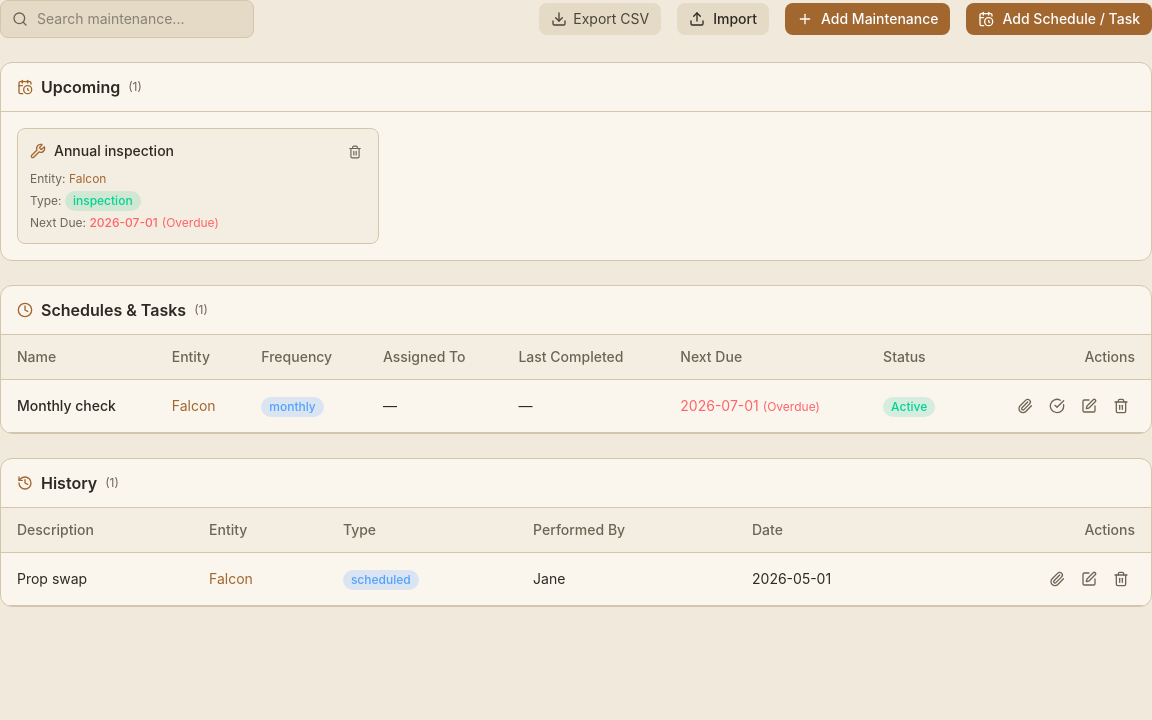
Scenario: MaintenancePage › opens the record form as a named dialog that closes on Escape
The width and height of the screenshot is (1152, 720).
Expected: the text "Prop swap" is shown, [1,552,193,606]
Click the button "Add Maintenance" at [868, 19], box [785,3,950,35]
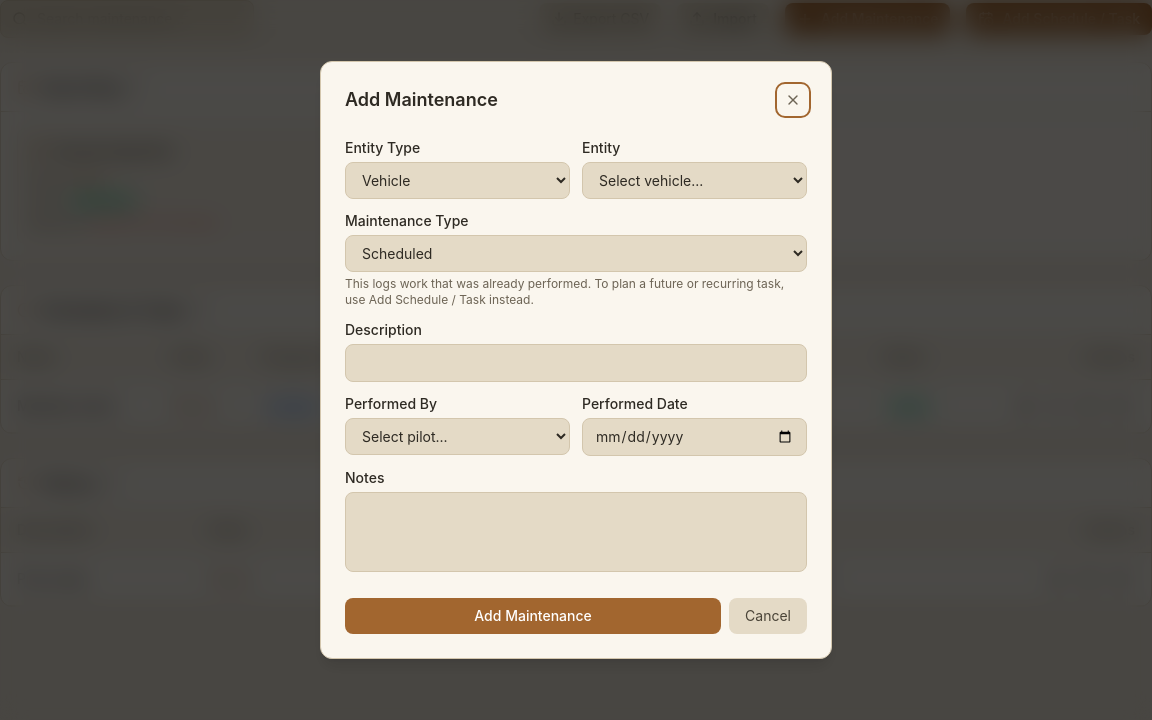
Now the dialog "Add Maintenance" is shown, box [320,61,832,659]
Press Escape
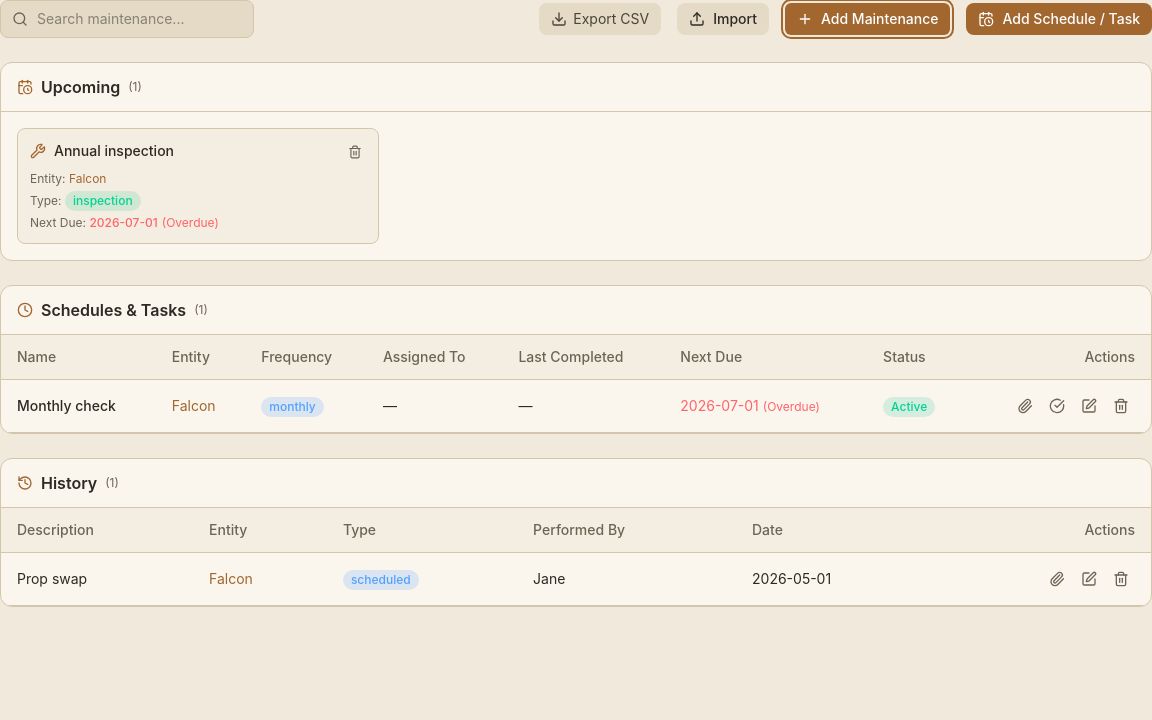
Now the dialog is gone
